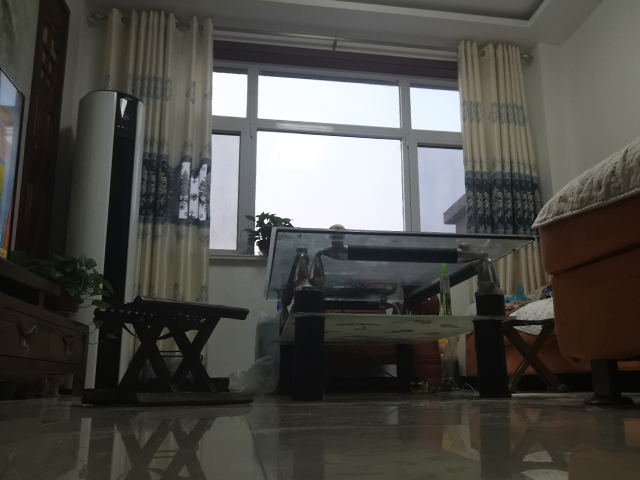cabinet: (1, 256, 90, 404)
curtain: (102, 6, 215, 384), (456, 36, 549, 290)
sofa: (456, 138, 640, 411)
stool: (81, 292, 256, 409), (503, 317, 571, 395)
table: (260, 224, 539, 404)
